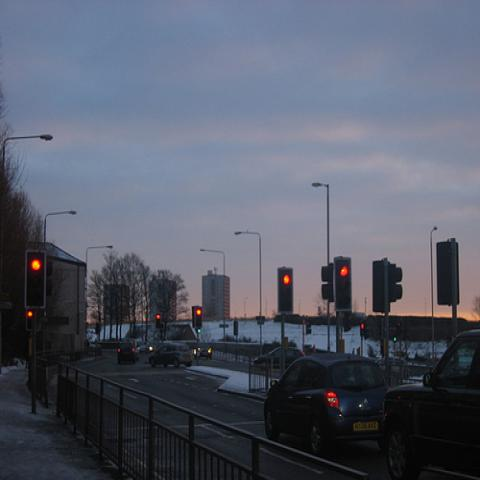car: (384, 329, 479, 479), (264, 350, 389, 457), (253, 346, 305, 370), (148, 343, 193, 368), (117, 342, 136, 364), (197, 343, 212, 360), (138, 344, 154, 352)
truck: (384, 326, 479, 470)
